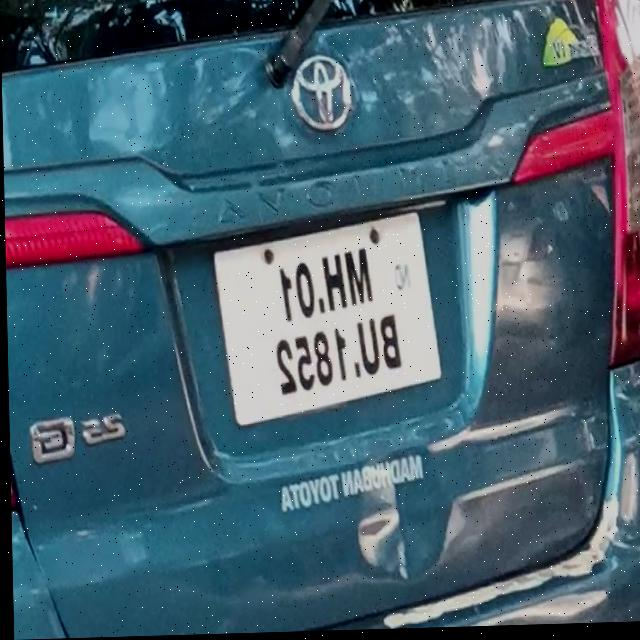plate: (211, 208, 443, 429)
